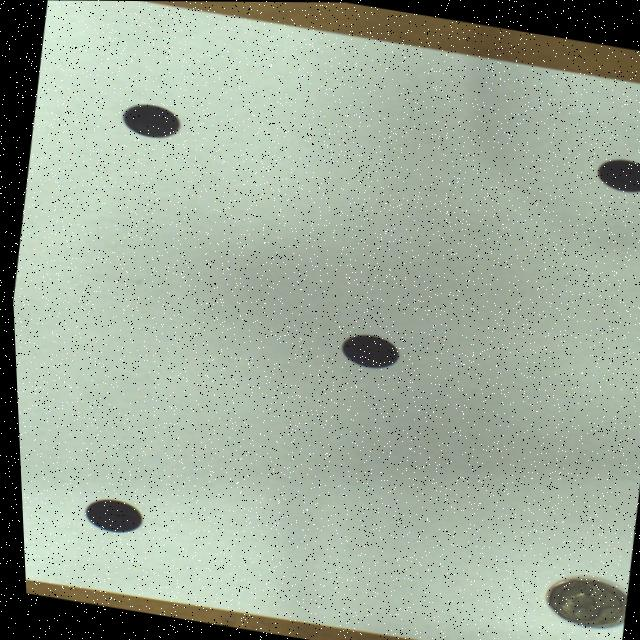head5bath: (541, 577, 621, 627)
space: (121, 104, 178, 138), (80, 499, 137, 533), (337, 334, 394, 368), (594, 158, 640, 192)
